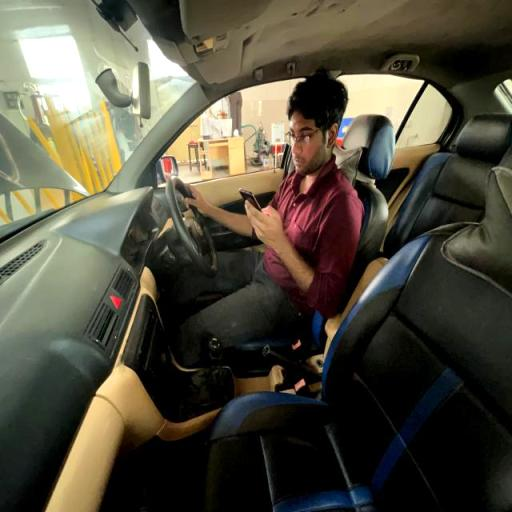Texting_on_phone: (179, 71, 360, 338)
